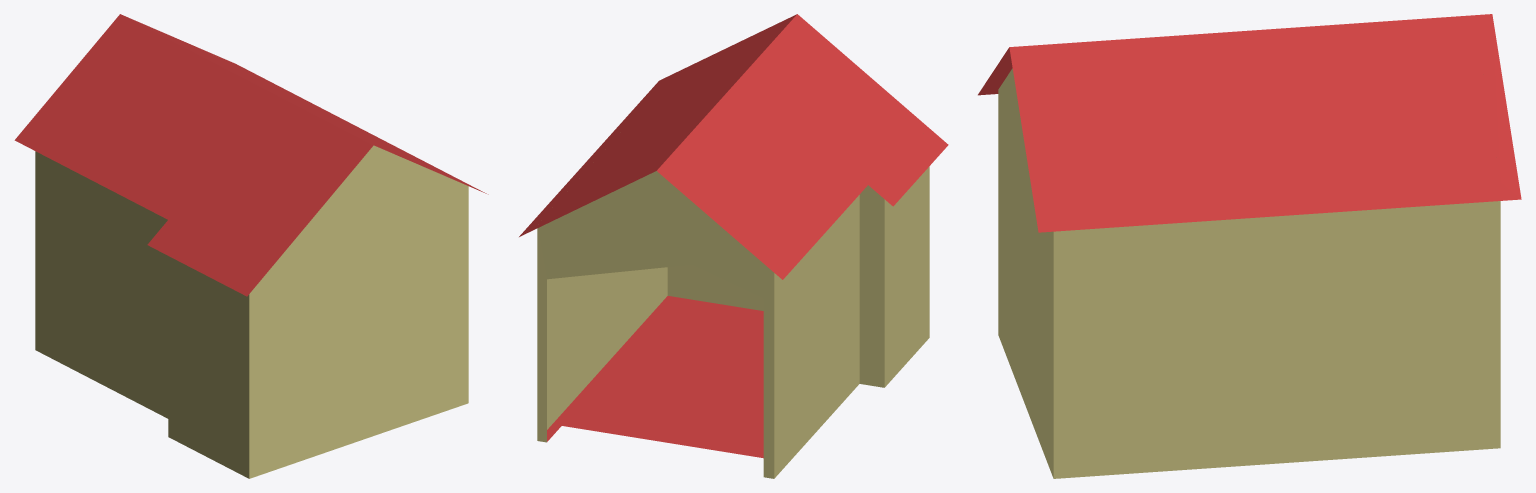
3 views of the same model, side by side, from view 1: azimuth 30°, elevation 25°; view 2: azimuth 150°, elevation 25°; view 3: azimuth 270°, elevation 25° (orthographic). The views are drawn at different scales.
Size of the model in its own units: 11.6 by 14.94 by 11.04.
